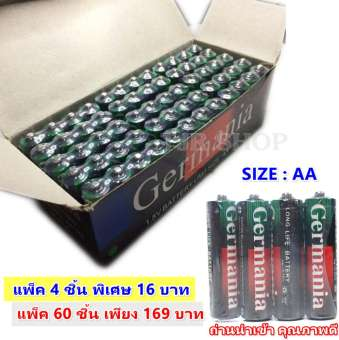Battery: (304, 190, 338, 321), (206, 193, 241, 320), (272, 192, 305, 321), (239, 193, 271, 322)
